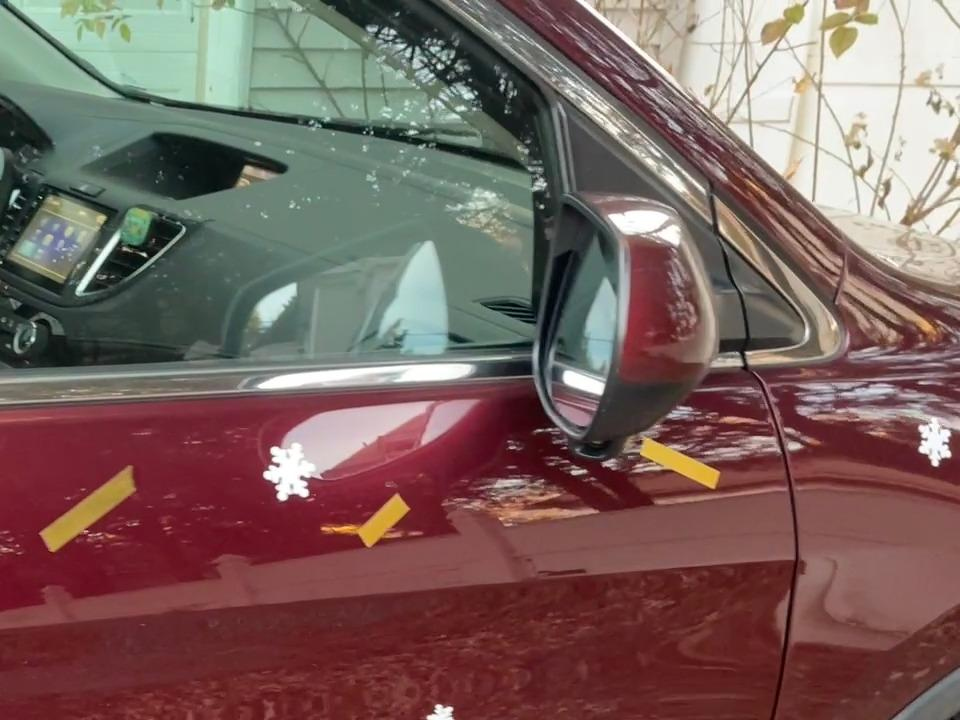dent: (255, 435, 333, 519), (898, 405, 960, 477), (411, 688, 466, 720)
scratch: (35, 458, 156, 569), (621, 425, 741, 498), (351, 485, 421, 556), (18, 701, 176, 720)
